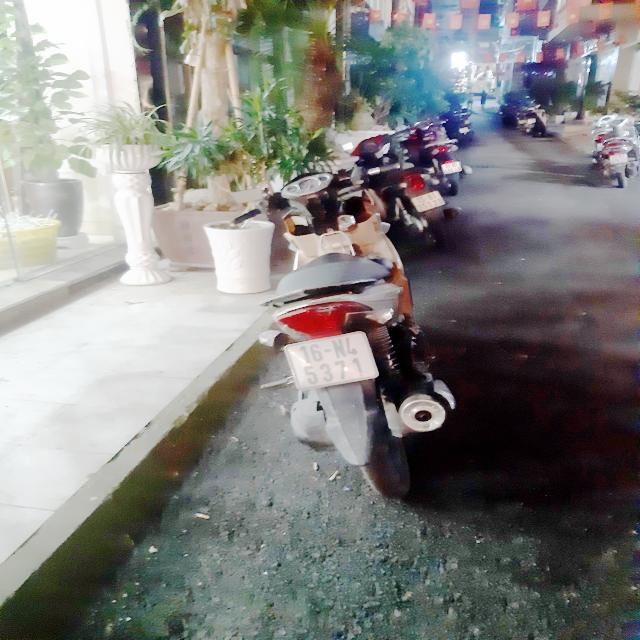license_plate: (277, 325, 388, 396), (409, 190, 448, 215)
